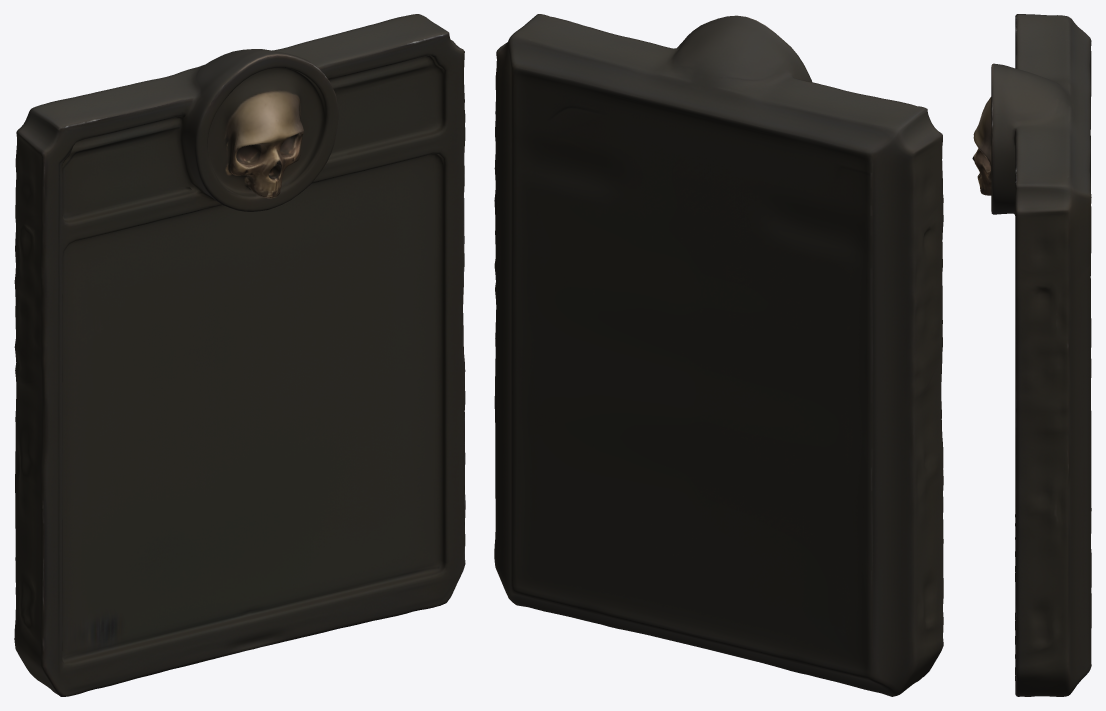
The model's file is base_basic_pbr.fbx.
The picture shows the model from 3 angles, left to right: view 1: azimuth 30°, elevation 25°; view 2: azimuth 150°, elevation 25°; view 3: azimuth 270°, elevation 25°; orthographic projection. The views are drawn at different scales.
Parts seen in each view (by area): view 1: model; view 2: model; view 3: model.
Part boxes in pixels (bbox=[...]): model: bbox=[14, 14, 465, 696]; model: bbox=[494, 14, 943, 696]; model: bbox=[972, 14, 1091, 696].
Bounding box in the file's own units: 139 × 190 × 37.62.
Materials: 1 (1 with a texture image).
